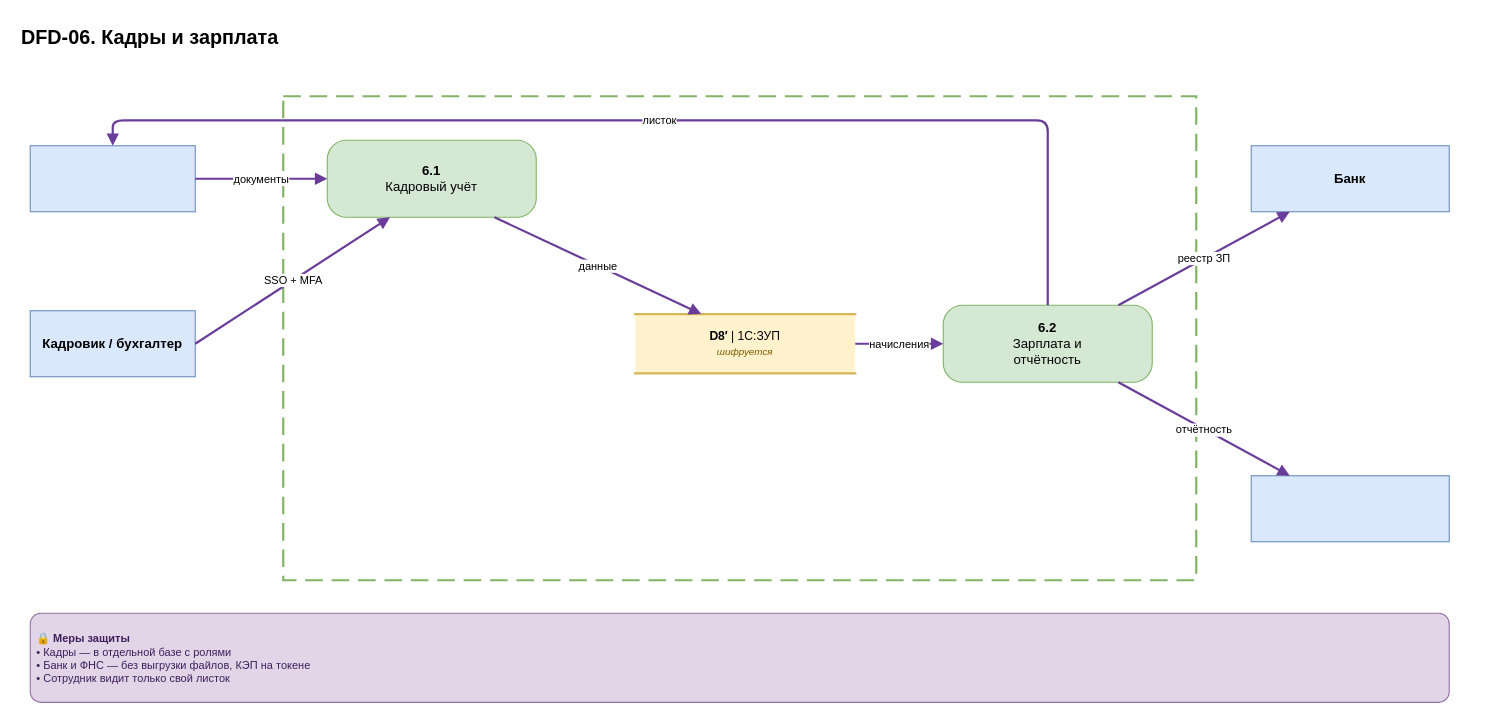
The diagram is 1489 pixels wide and 722 high, and some of its shapes have lost their labels. The box of each missing label's shape, as (x1, y1, x2, y2) in pixels:
Защищённый контур: (282, 95, 1197, 581)
Сотрудник: (29, 145, 195, 212)
ФНС / СФР: (1250, 475, 1449, 542)
